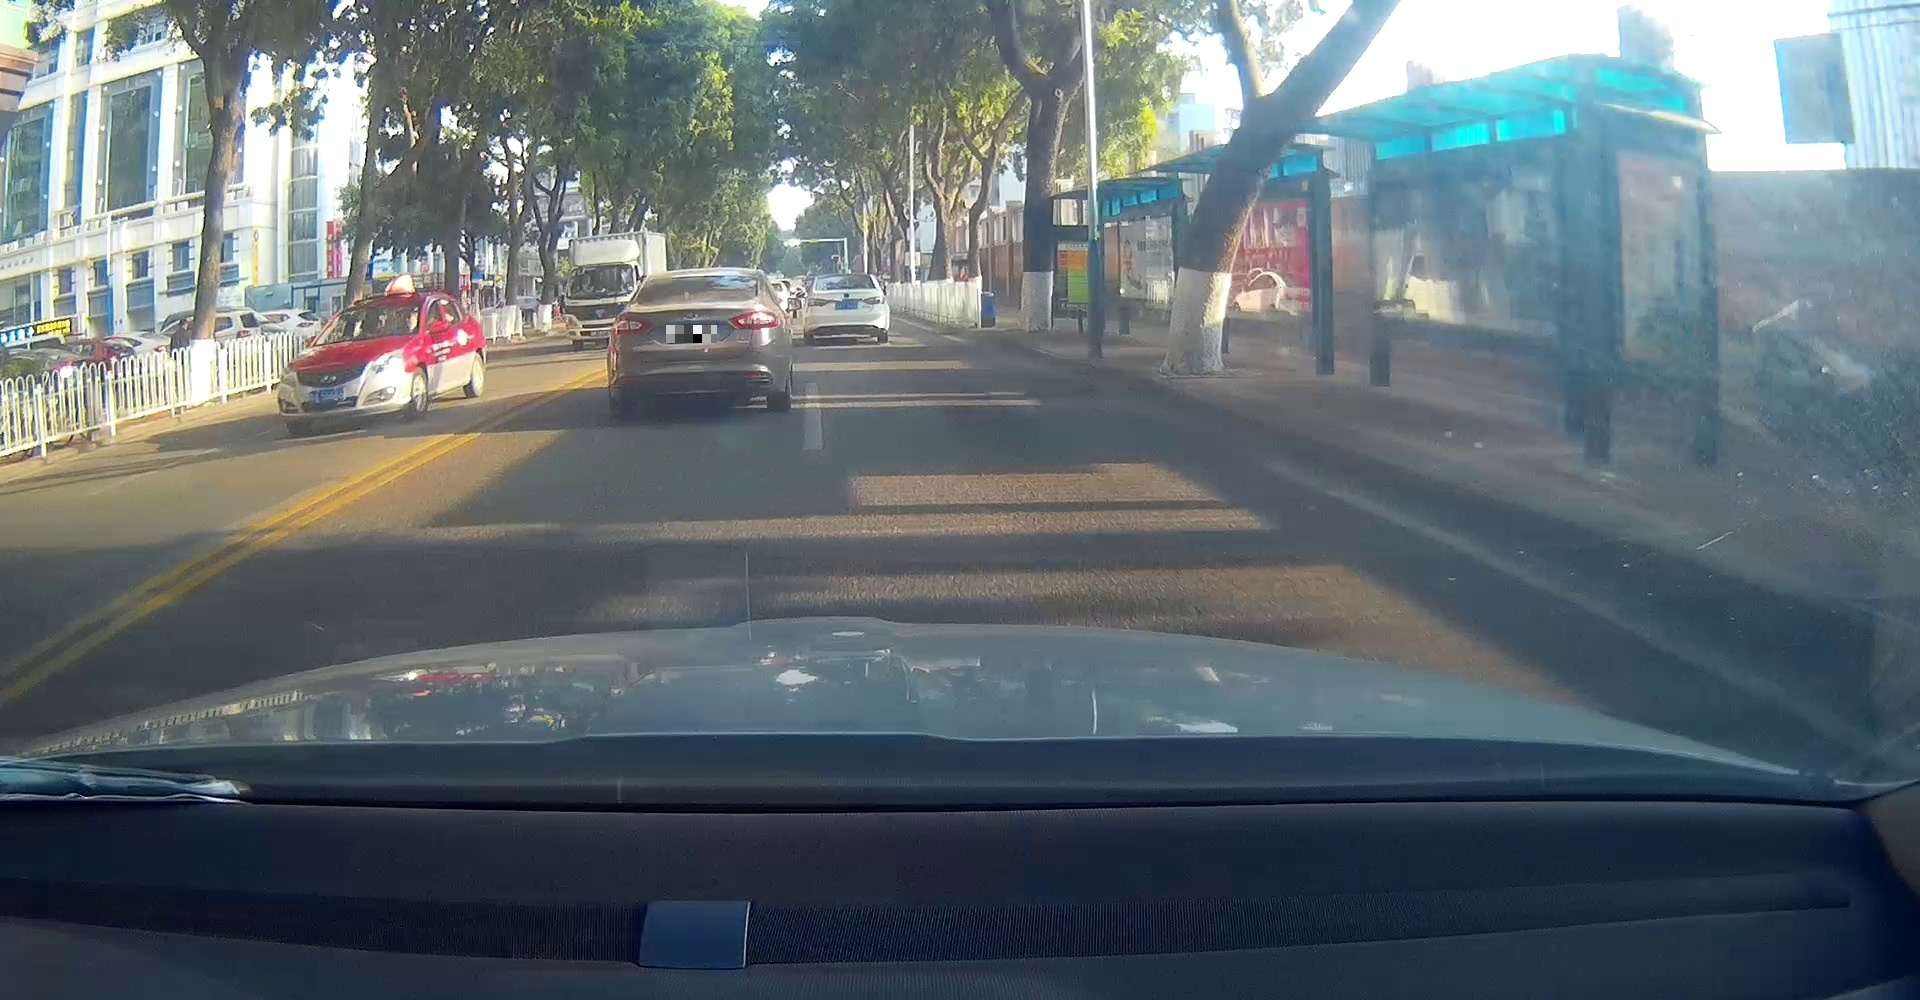L_light: (611, 311, 653, 336), (806, 298, 830, 307)
R_light: (728, 308, 783, 330), (863, 296, 888, 305), (841, 273, 853, 277)
T_light: (681, 275, 715, 282)
day-no: (611, 268, 785, 414), (805, 272, 888, 343)
plate_1: (665, 325, 717, 343)
